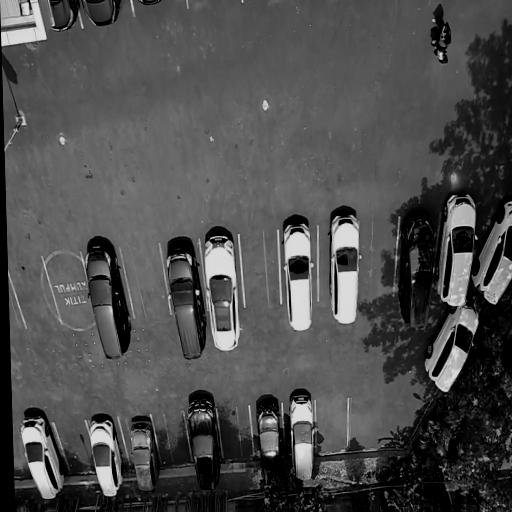Car: (419, 296, 486, 409), (78, 239, 137, 366), (201, 222, 245, 359), (163, 233, 208, 365), (432, 187, 481, 306), (15, 411, 70, 505), (396, 210, 438, 331), (469, 196, 512, 313), (279, 209, 317, 336), (324, 211, 363, 333), (183, 393, 225, 499), (85, 414, 127, 502), (253, 393, 285, 497), (123, 413, 163, 494), (286, 388, 317, 486), (78, 0, 123, 28), (50, 0, 81, 32), (137, 0, 165, 10)
Space Available: (120, 241, 170, 320), (42, 254, 95, 326), (8, 257, 60, 330), (238, 231, 281, 309), (359, 219, 400, 298), (54, 421, 96, 477), (217, 401, 254, 464), (152, 413, 192, 469), (316, 400, 350, 456), (8, 271, 26, 334), (13, 427, 33, 481)
